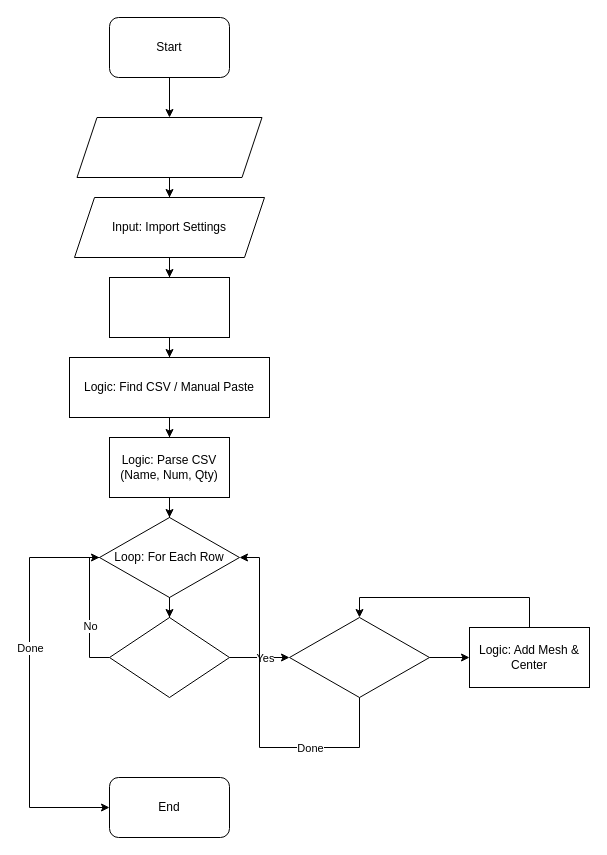
The diagram is 607 pixels wide and 855 high, and some of its shapes have lost their labels. The shapes that lost their labels are listed below. From the top down, each one's centre as x and y in pixels, then its label:
point 169,147: Input: Select Import Folder
point 169,307: Logic: Create Single Workspace
point 169,657: Check: File Exists?
point 359,657: Loop: Quantity Times
